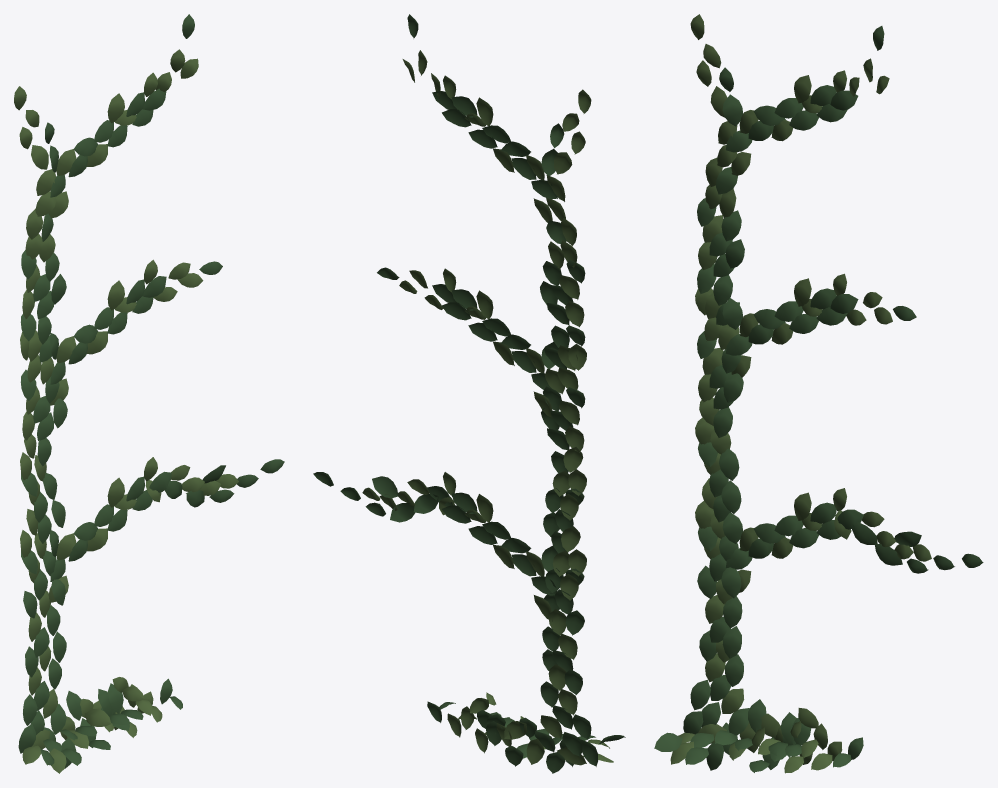
File: enredadera_4.fbx
The picture shows the model from 3 angles, left to right: view 1: azimuth 30°, elevation 25°; view 2: azimuth 150°, elevation 25°; view 3: azimuth 330°, elevation 25°; orthographic projection. The views are drawn at different scales.
Visible parts, largest first — view 1: Hoja231; view 2: Hoja231; view 3: Hoja231.
Boxes of the visible parts, <box> form: Hoja231: <box>14,14,284,773</box>; Hoja231: <box>313,14,625,773</box>; Hoja231: <box>654,14,983,773</box>.
Bounding box in the file's own units: 7.32 × 17.99 × 1.79.
